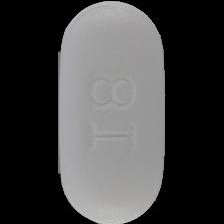70786-0684: (0, 0, 224, 224)
